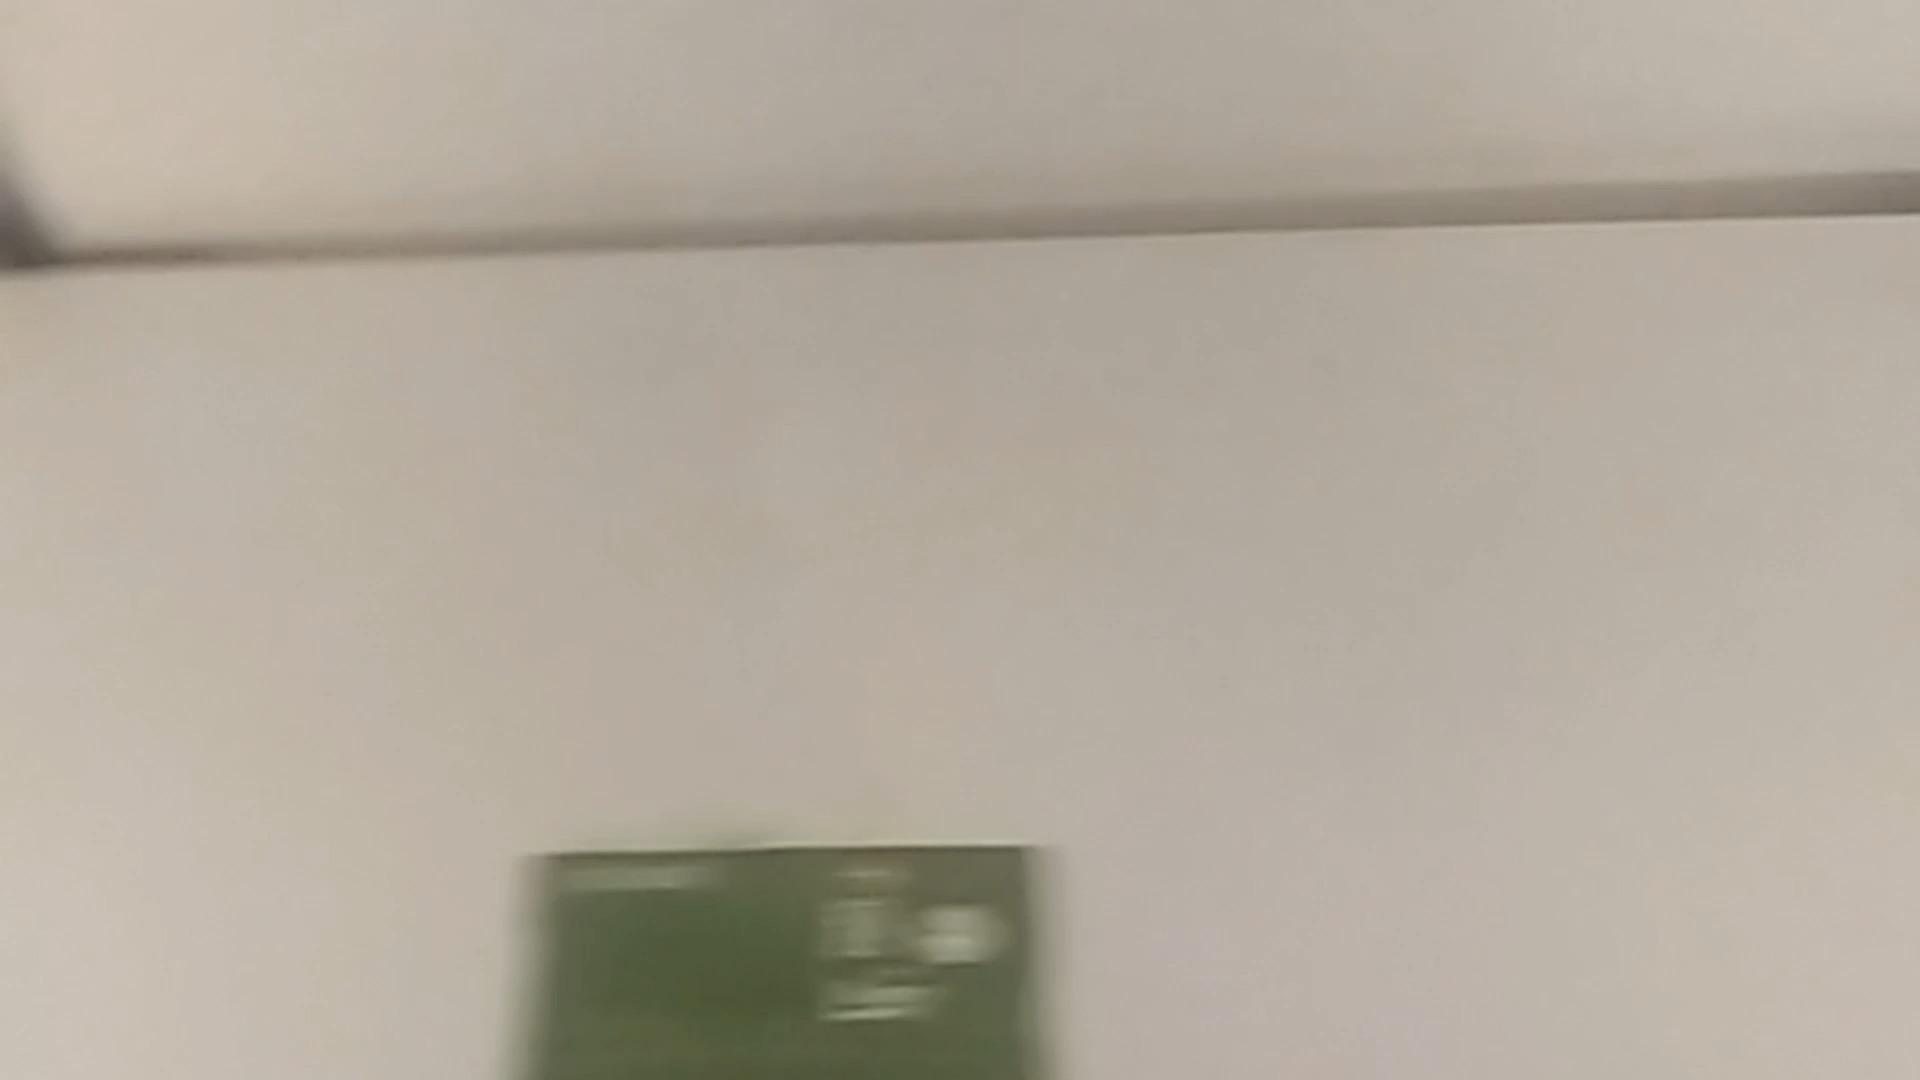coco: (510, 829, 1085, 1080)
